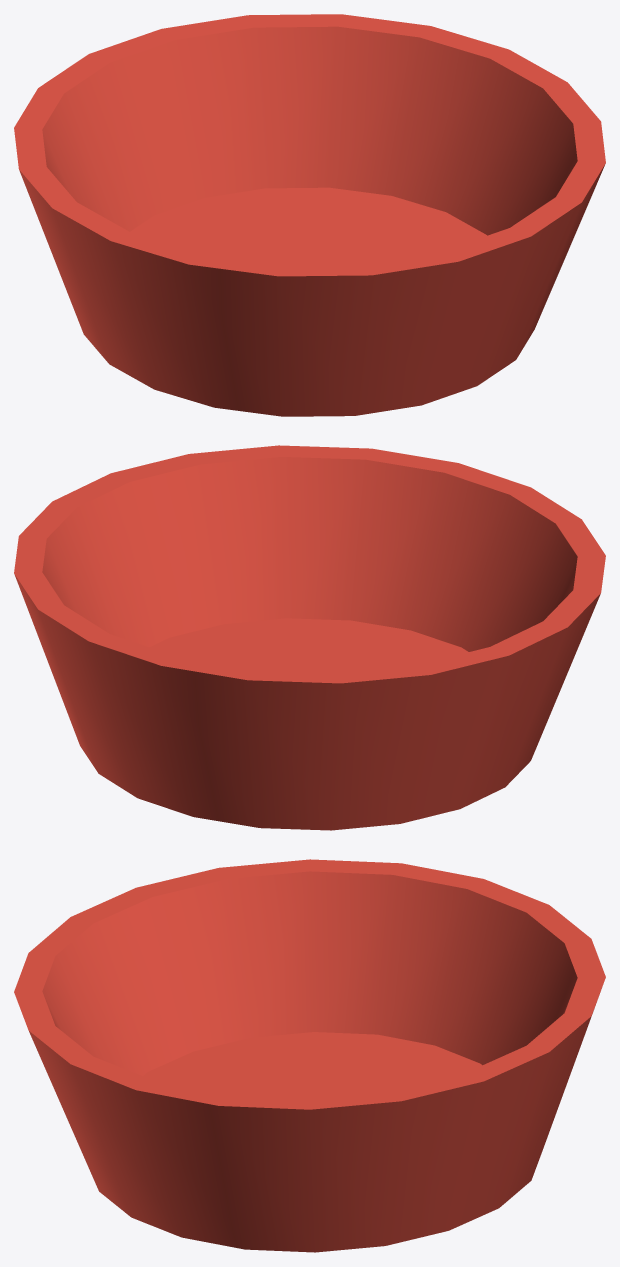
File: fooddish.fbx
The picture shows the model from 3 angles, top to bottom: view 1: azimuth 30°, elevation 25°; view 2: azimuth 150°, elevation 25°; view 3: azimuth 270°, elevation 25°; orthographic projection.
Visible parts, largest first — view 1: fooddish; view 2: fooddish; view 3: fooddish.
Boxes of the visible parts, x1=… form: fooddish: x1=14, y1=14, x2=605, y2=416; fooddish: x1=14, y1=445, x2=605, y2=830; fooddish: x1=14, y1=859, x2=605, y2=1252.
Bounding box in the file's own units: 13.07 × 4.5 × 13.06.
